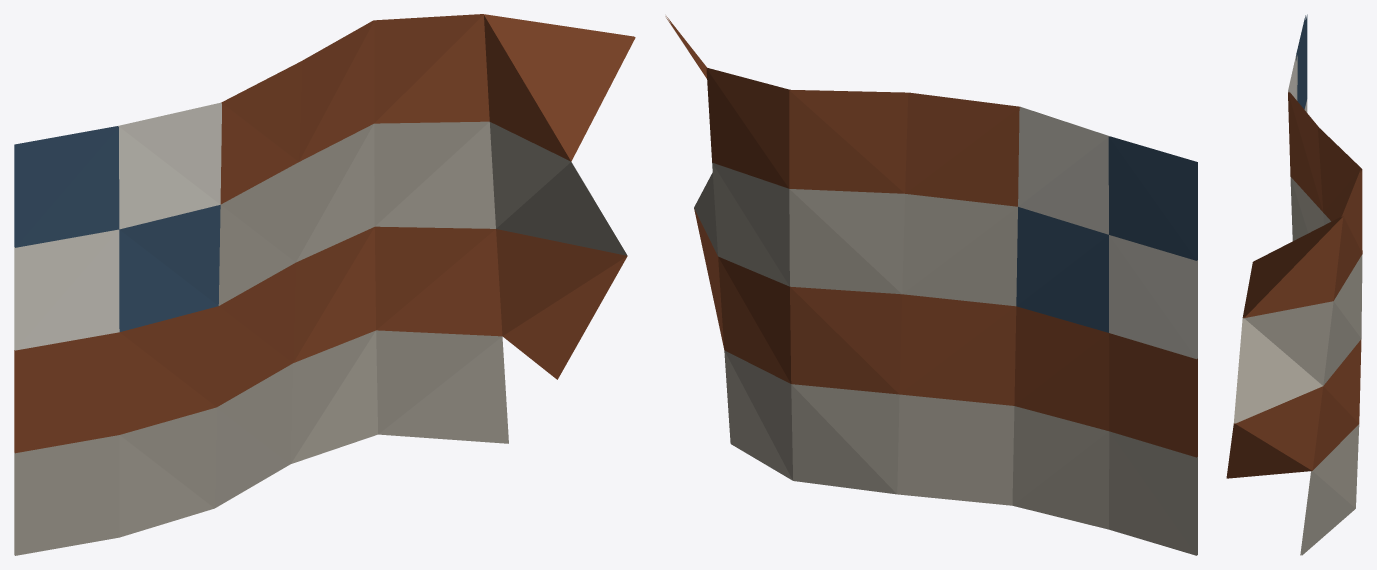
Rendered from flag_torn_f2.glb.
3 views of the same model, side by side, from view 1: azimuth 30°, elevation 25°; view 2: azimuth 150°, elevation 25°; view 3: azimuth 270°, elevation 25° (orthographic). The views are drawn at different scales.
Visible parts, largest first — view 1: flag_torn_f2; view 2: flag_torn_f2; view 3: flag_torn_f2.
Part boxes in pixels (x1,y1,x2,y2): flag_torn_f2: (14,14,635,555); flag_torn_f2: (665,16,1197,555); flag_torn_f2: (1226,14,1362,555).
Size of the model in its own units: 1.5 by 1.03 by 0.3629.
3 materials, 3 textured.
